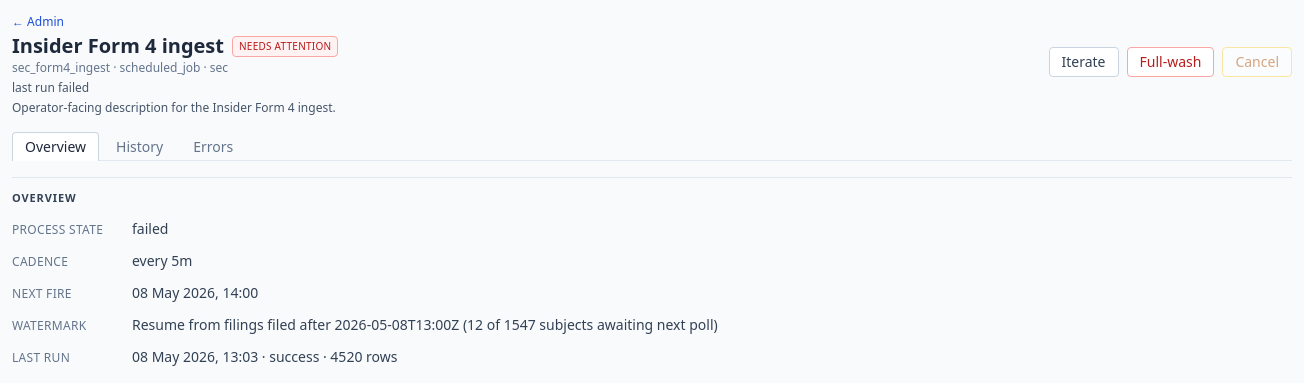
Scenario: ProcessDetailPage › Errors tab renders grouped error classes
The width and height of the screenshot is (1304, 383).
Click the tab "Errors" at [213, 146], box [180,132,246,161]
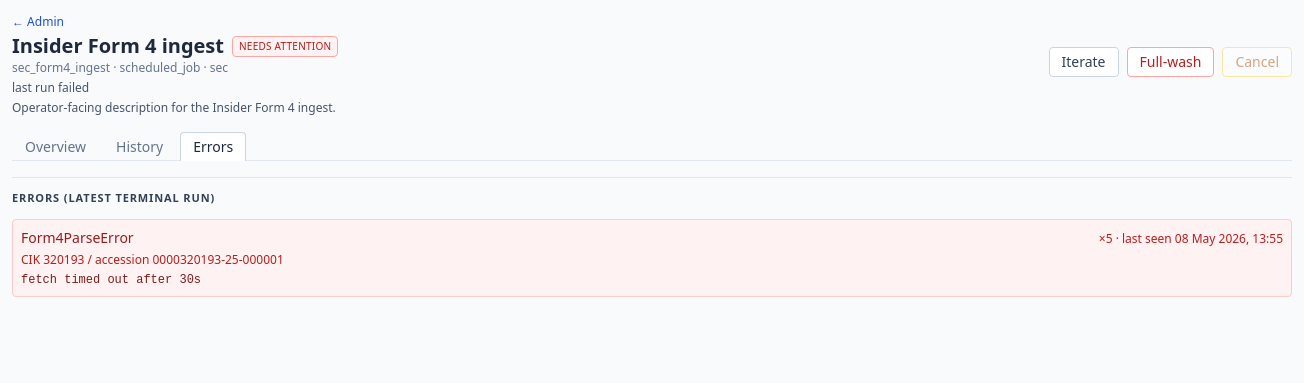
Expected: the text "Form4ParseError" is shown, [21,228,134,248]
